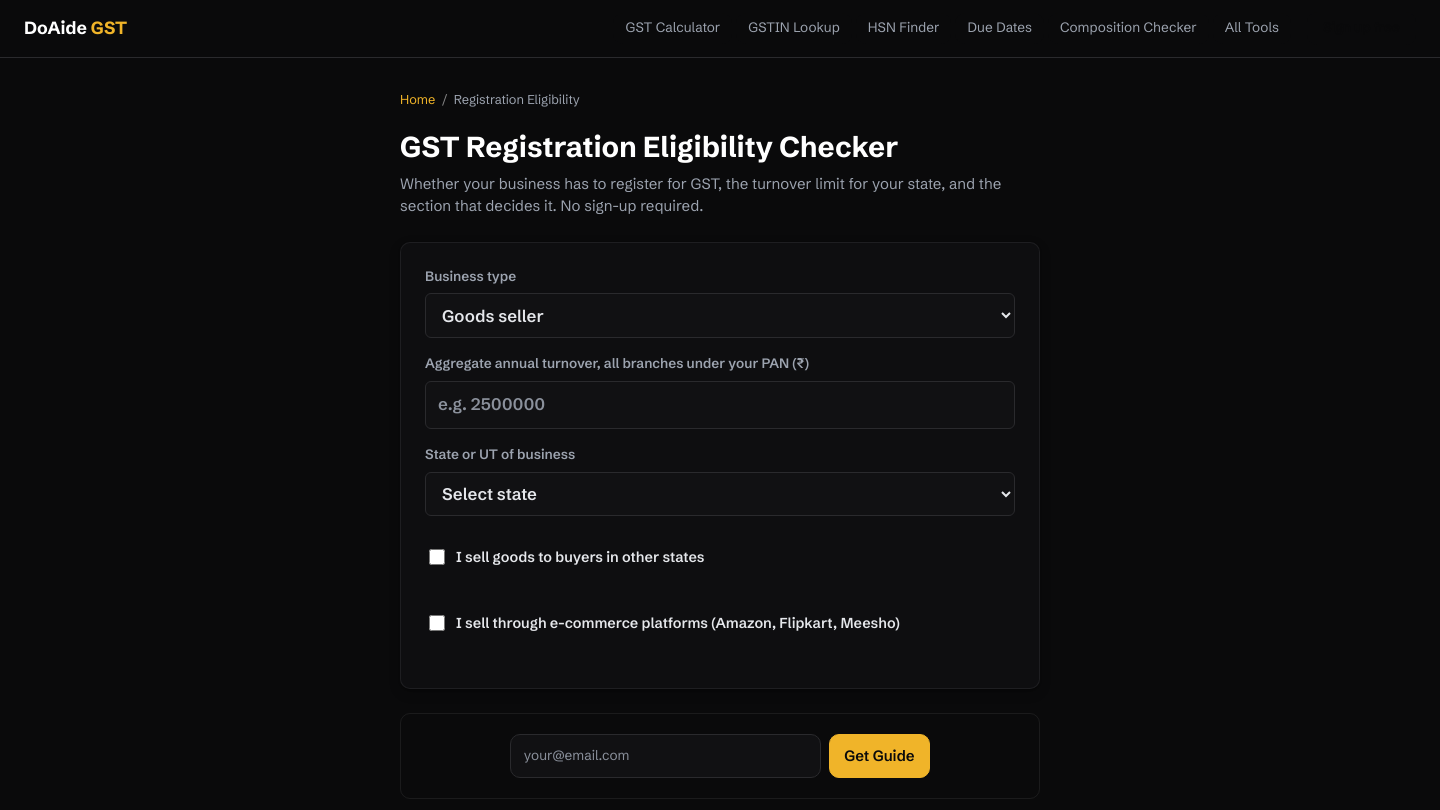
Test: RegistrationCheckerPage › requires a goods seller above ₹40 lakh to register, citing Notification 10/2019-CT
Select "Maharashtra" in the dropdown labelled "State or UT of business": x=720, y=494 [425,472,1015,516]
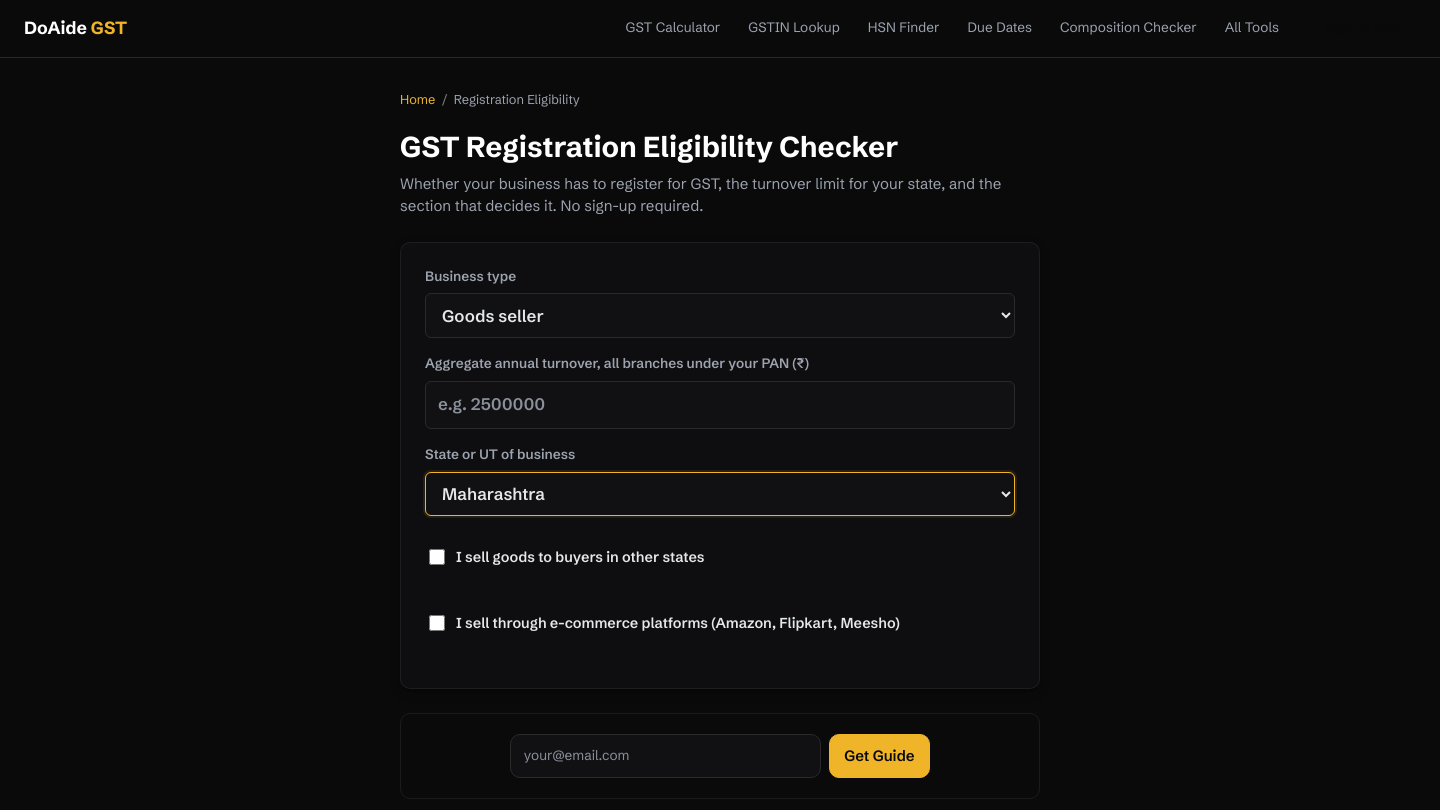
In the number field labelled "Aggregate annual turnover, all branches under your PAN (₹)": x=720, y=405 [425,381,1015,429], type "4500000"
(page scrolled)
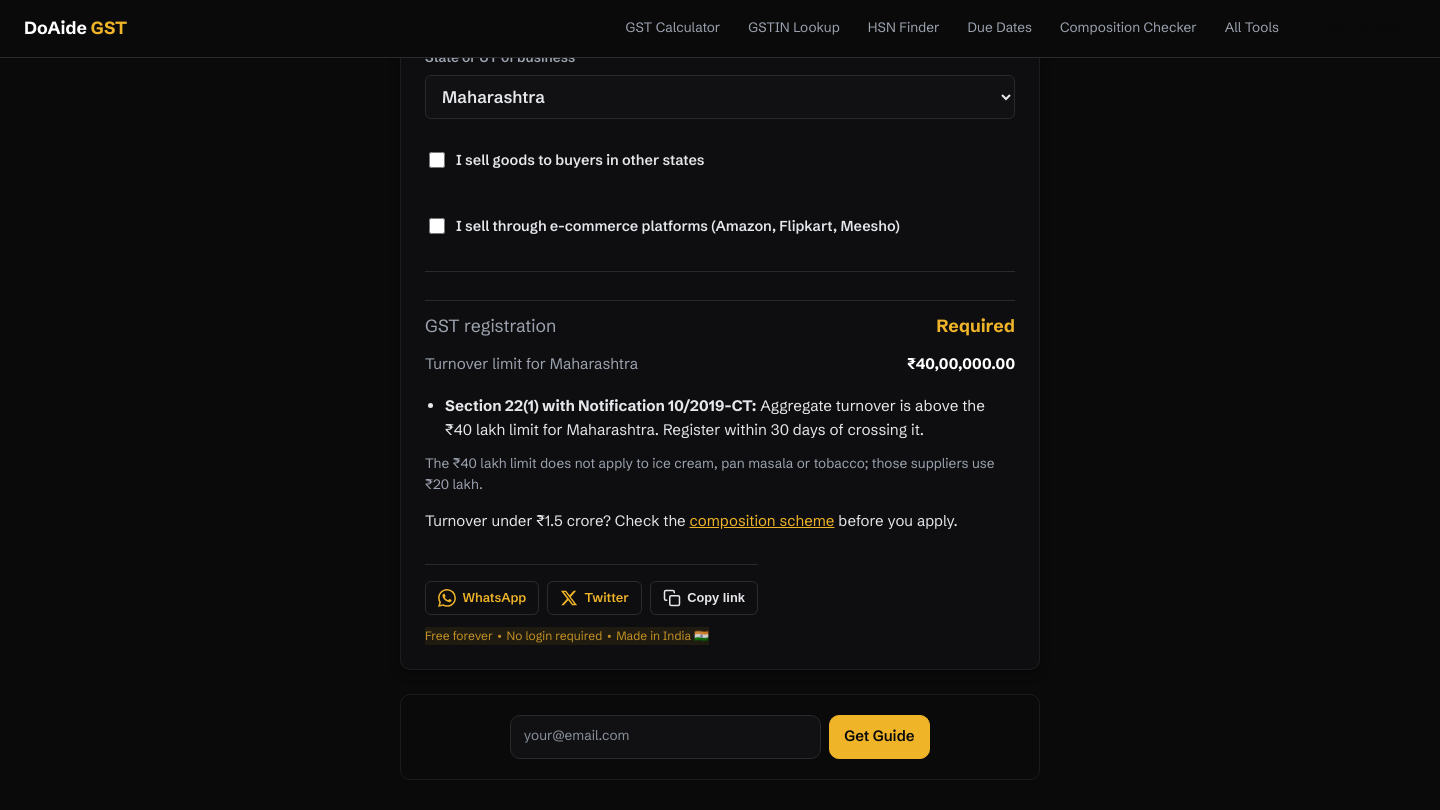
Expected: the text "GST registration" shows "Required", [936,315,1015,337]
Expected: the text "Turnover limit for Maharashtra" shows "40,00,000", [907,354,1015,373]
Expected: the text "Section 22(1) with Notification 10/2019-CT:" is shown, [445,396,756,415]
